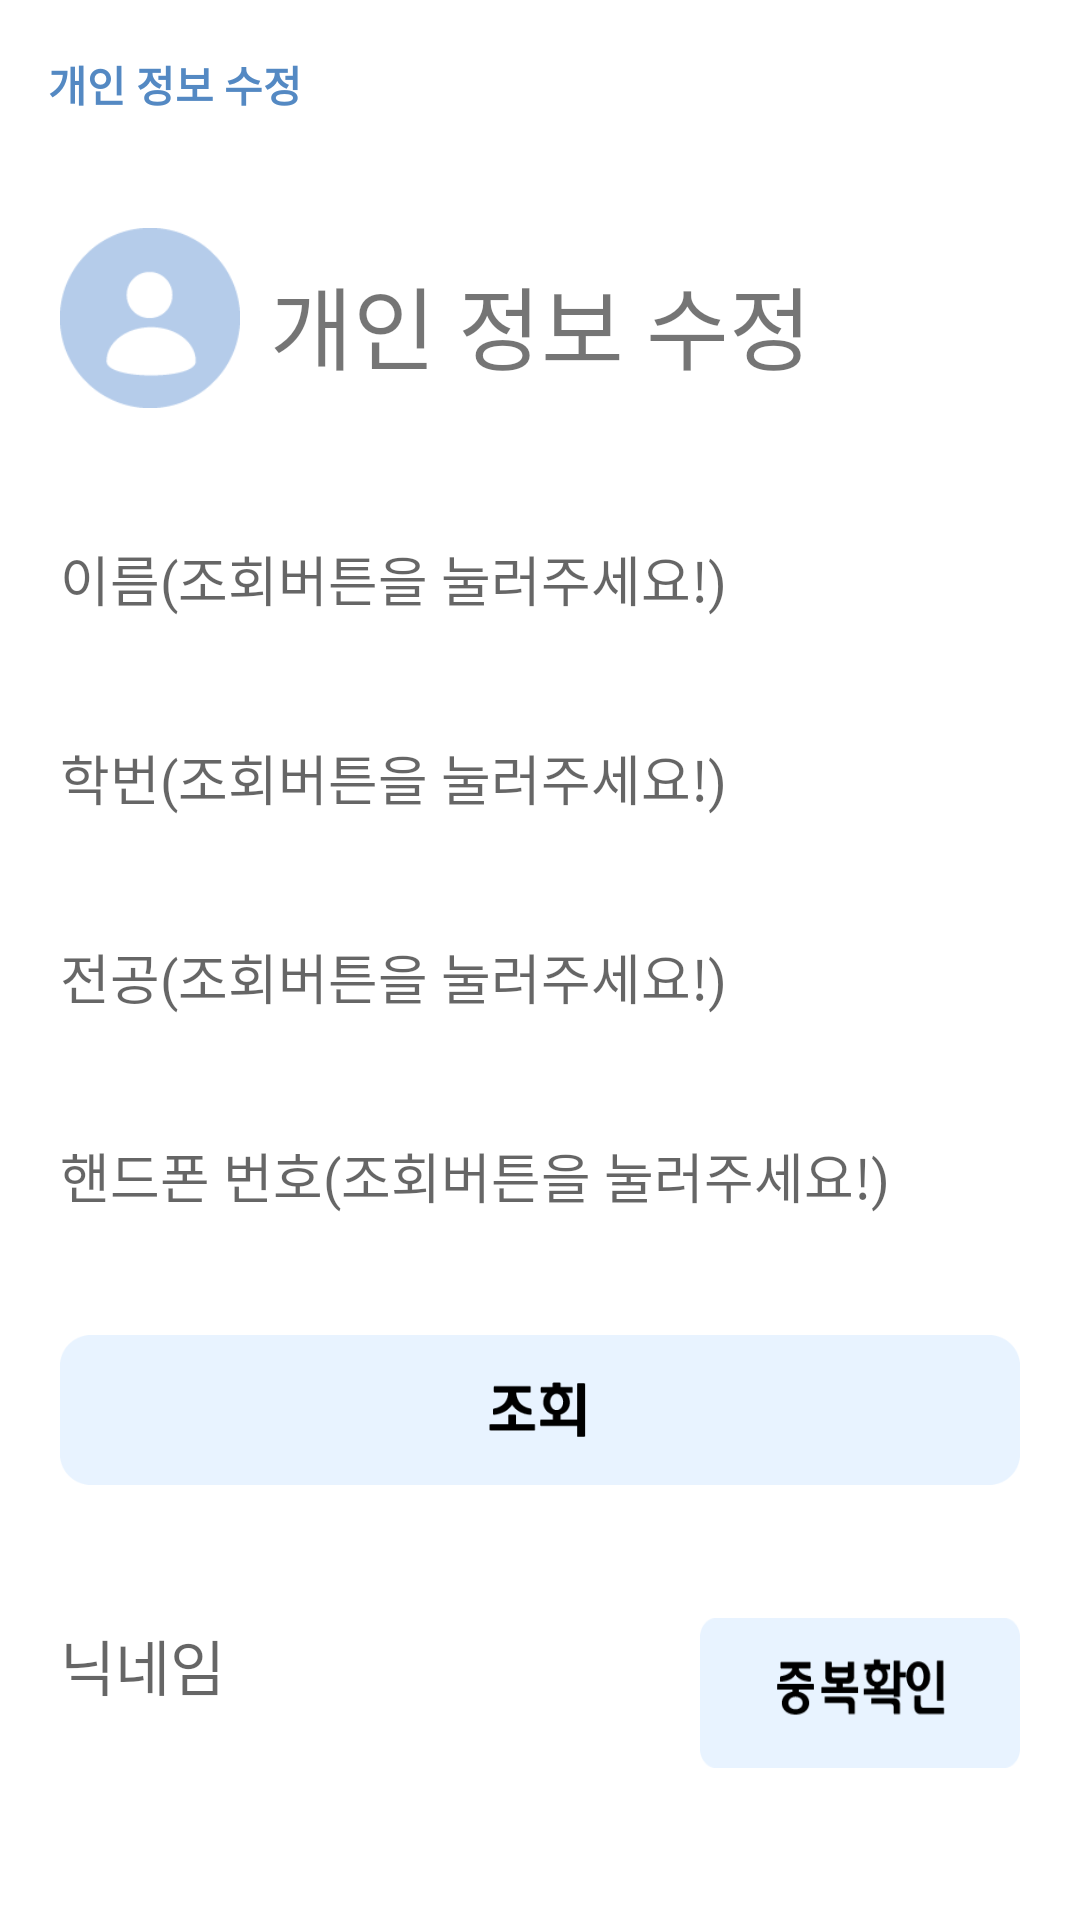

Icon bounding boxes for this 1080*1920 phone screenshot, format (x1, y1, x2, y2):
profile: (60, 228, 240, 408)
